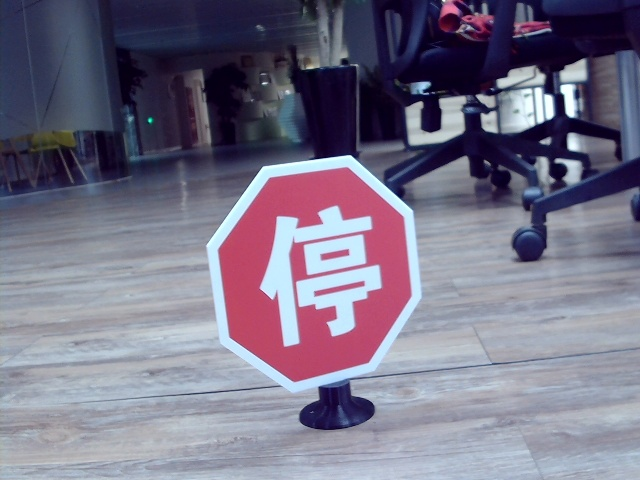stop: (256, 207, 378, 340)
